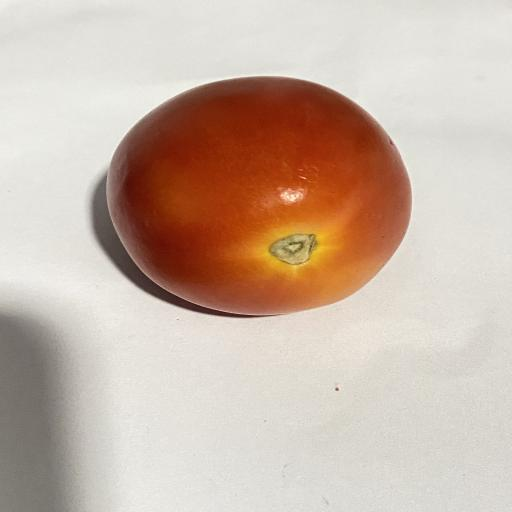ripe: (107, 77, 411, 315)
